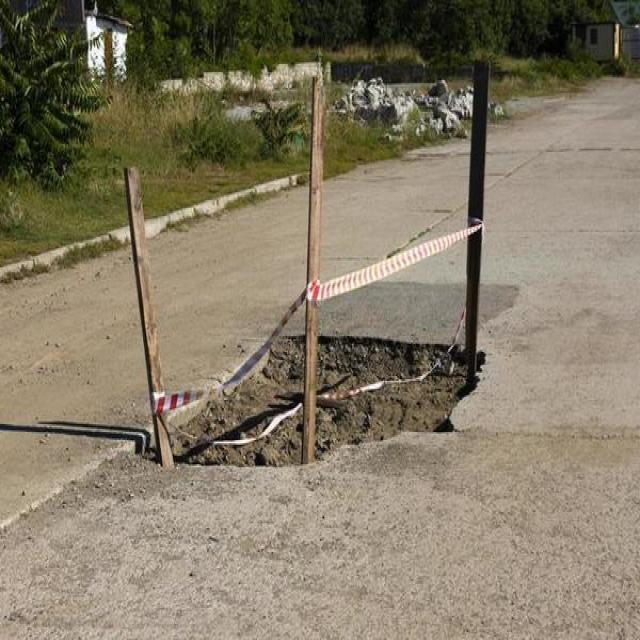road collapse: (96, 249, 595, 640)
